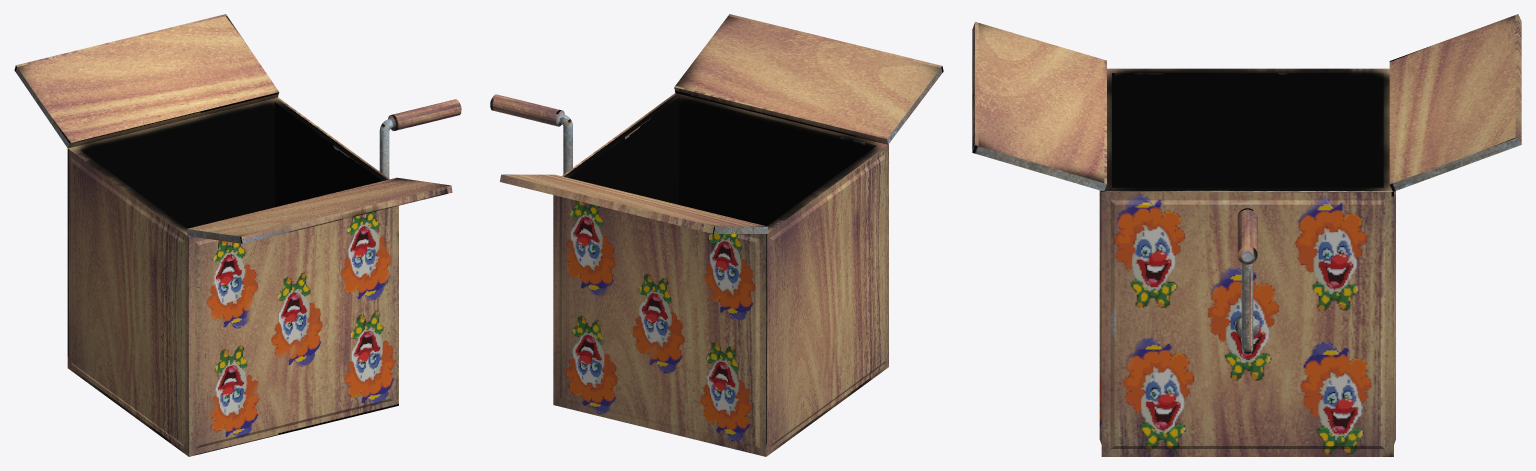
The model's file is musicbox2.glb.
The picture shows the model from 3 angles, left to right: view 1: azimuth 30°, elevation 25°; view 2: azimuth 150°, elevation 25°; view 3: azimuth 270°, elevation 25°; orthographic projection. The views are drawn at different scales.
Visible parts, largest first — view 1: Box; view 2: Box; view 3: Box.
Boxes of the visible parts, x1,y1,x2,y2 form: Box: (14, 14, 461, 456); Box: (490, 14, 943, 456); Box: (972, 14, 1521, 456).
Bounding box in the file's own units: 3.16 × 2.41 × 3.76.
Materials: 1 (1 with a texture image).
